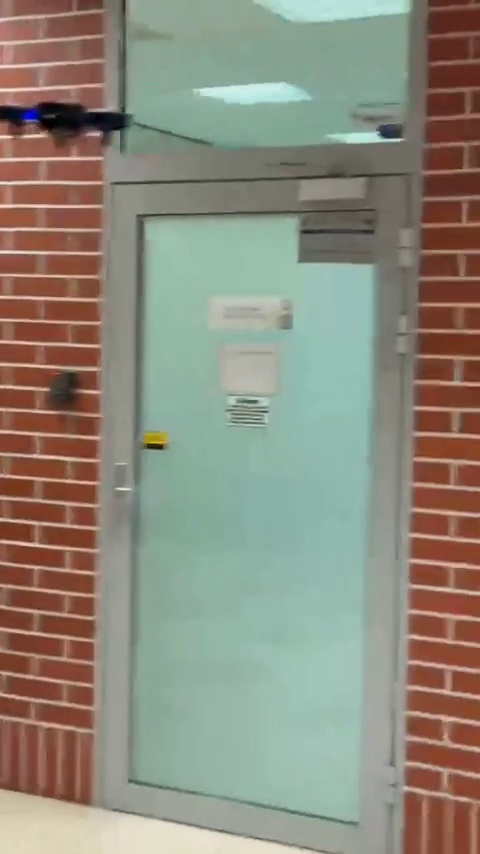drone: (2, 96, 134, 150)
